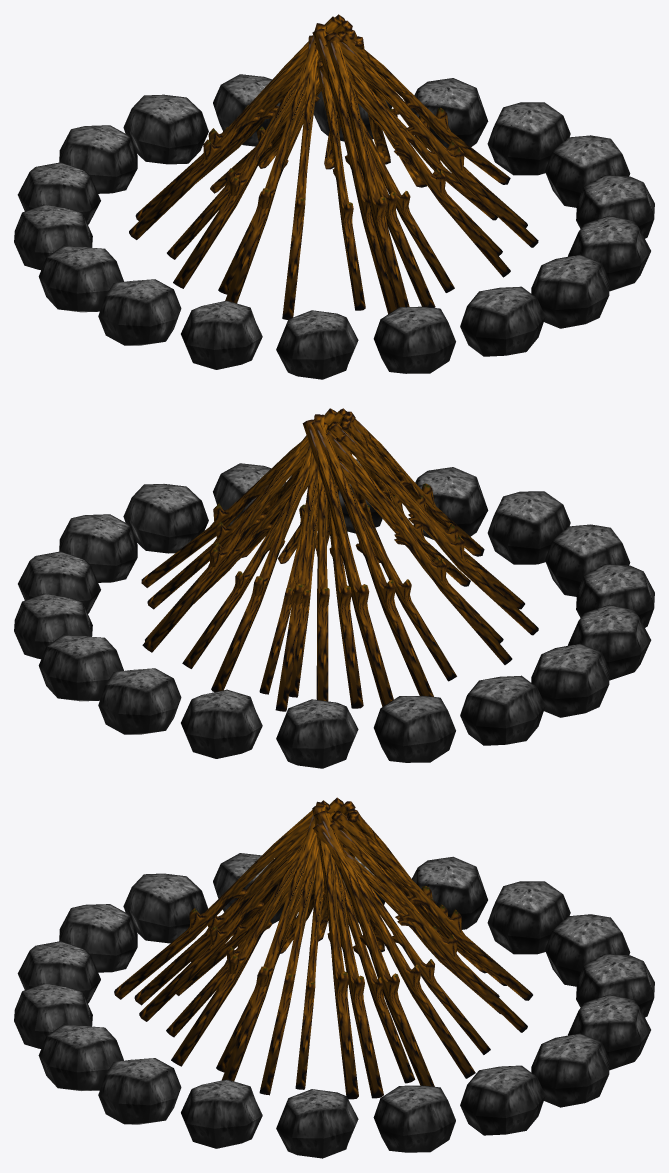
The model's file is LagerFeuerKlein.fbx.
3 renders of one model, top to bottom at view 1: azimuth 30°, elevation 25°; view 2: azimuth 150°, elevation 25°; view 3: azimuth 270°, elevation 25°, orthographic.
Parts seen in each view (by area): view 1: StockKleinSubs.010, StockKleinSubs.019; view 2: StockKleinSubs.010, StockKleinSubs.019; view 3: StockKleinSubs.010, StockKleinSubs.019.
Boxes of the visible parts, bbox=[...] form: StockKleinSubs.010: bbox=[14, 74, 654, 379]; StockKleinSubs.019: bbox=[129, 14, 538, 319]; StockKleinSubs.010: bbox=[14, 459, 654, 768]; StockKleinSubs.019: bbox=[141, 408, 538, 711]; StockKleinSubs.010: bbox=[14, 853, 654, 1158]; StockKleinSubs.019: bbox=[114, 797, 532, 1099].
Size of the model in its own units: 625 by 247 by 619.
